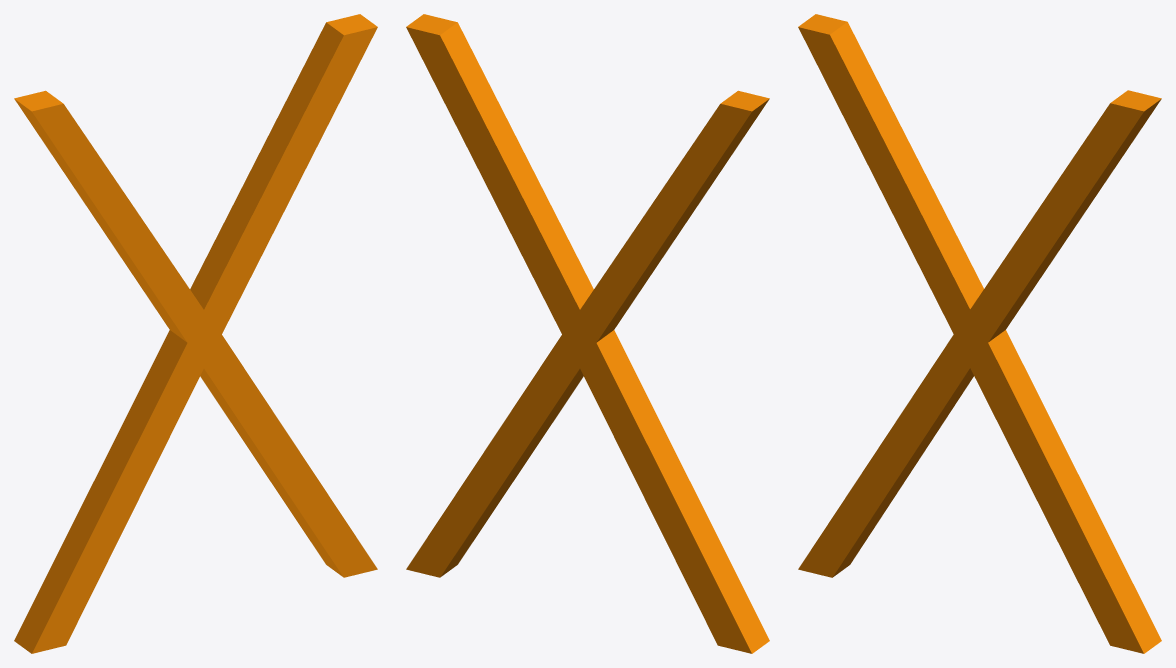
3 views of the same model, side by side, from view 1: azimuth 30°, elevation 25°; view 2: azimuth 150°, elevation 25°; view 3: azimuth 330°, elevation 25° (orthographic).
Visible parts, largest first — view 1: X; view 2: X; view 3: X.
Part boxes in pixels (box(x1,y1,x2,y2)): X: box(14, 14, 377, 653); X: box(406, 14, 769, 653); X: box(798, 14, 1161, 653).
Bounding box in the file's own units: 56.16 × 84.1 × 5.
